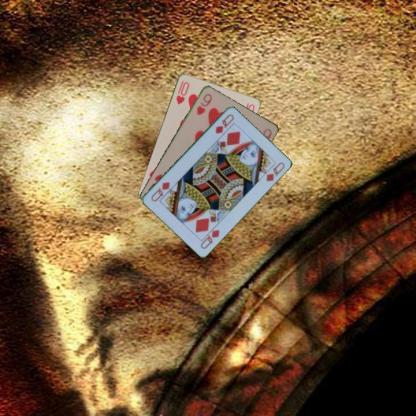10h: (173, 79, 191, 105)
9h: (194, 91, 213, 116)
Qd: (198, 222, 220, 250), (212, 111, 235, 136)
